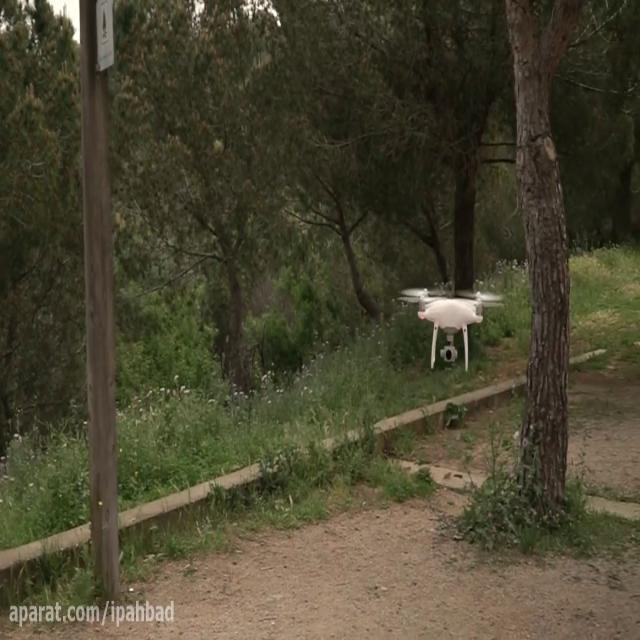drone: (394, 282, 506, 376)
